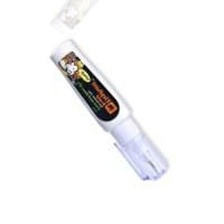correction_fluid: (44, 37, 170, 183)
